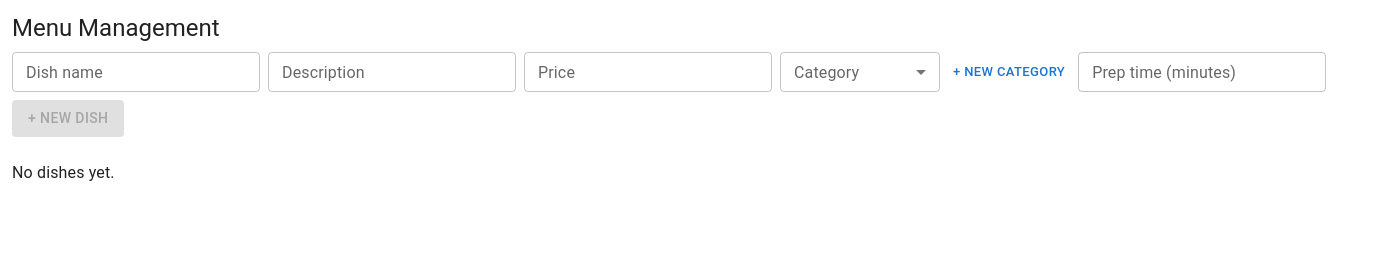
it: MenuManagementPage › surfaces a rejected dish submission inline with the backend's exact message
Check: the text "No dishes yet." is shown, box [12,163,115,182]
Step 1. Type "Orphan" into the field labelled "Dish name" → (136, 72), box [12,52,260,92]
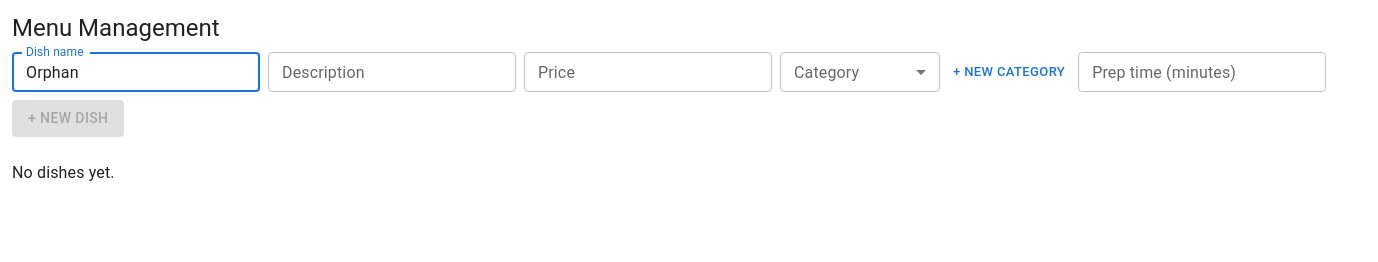
Step 2. Type "5.00" into the field labelled "Price" → (648, 72), box [524,52,772,92]
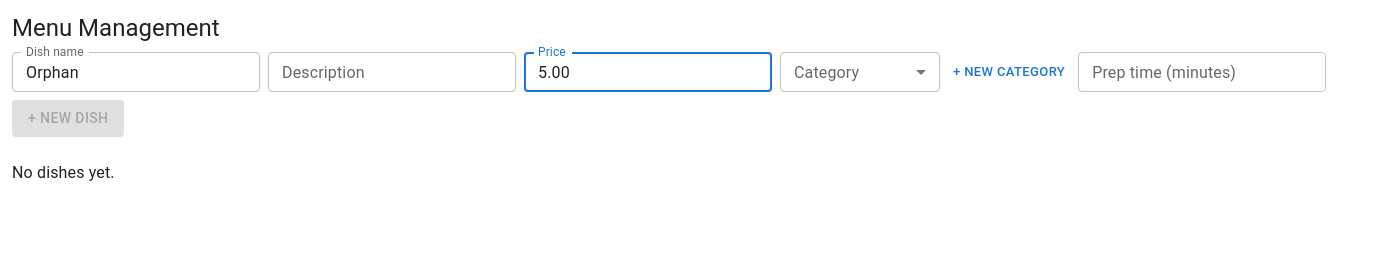
Step 3. Click the dropdown named "Category" → (860, 72), box [780,52,940,92]
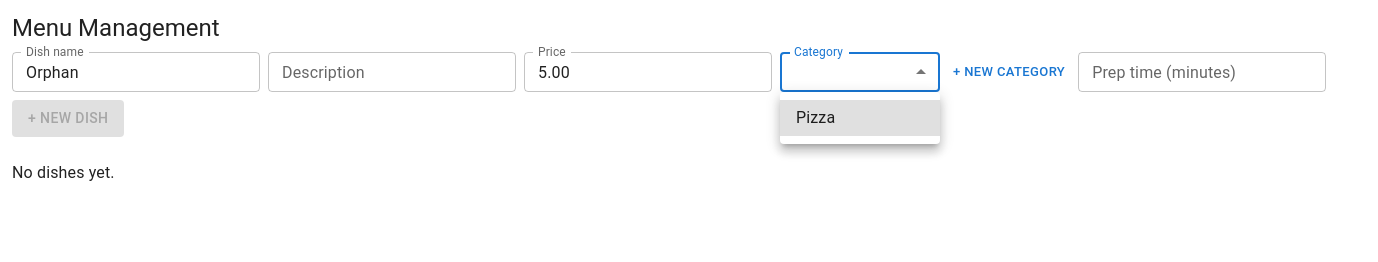
Step 4. Click the option "Pizza" → (860, 118), box [780,100,940,136]
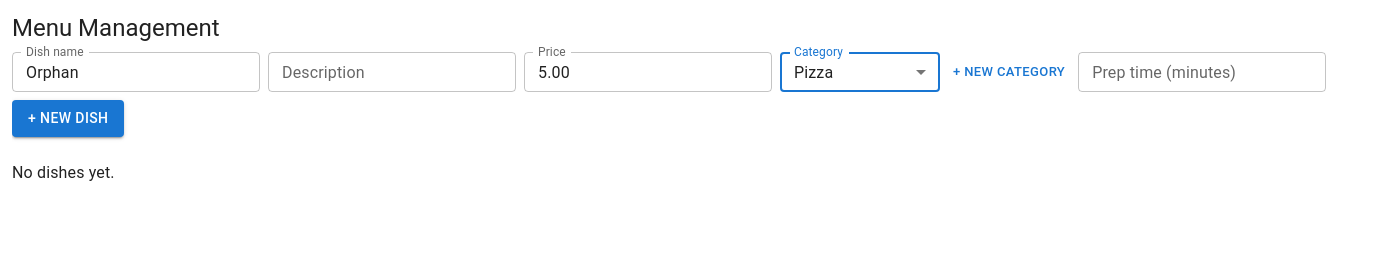
Step 5. Click the button "+ New dish" → (68, 119), box [12,100,124,137]
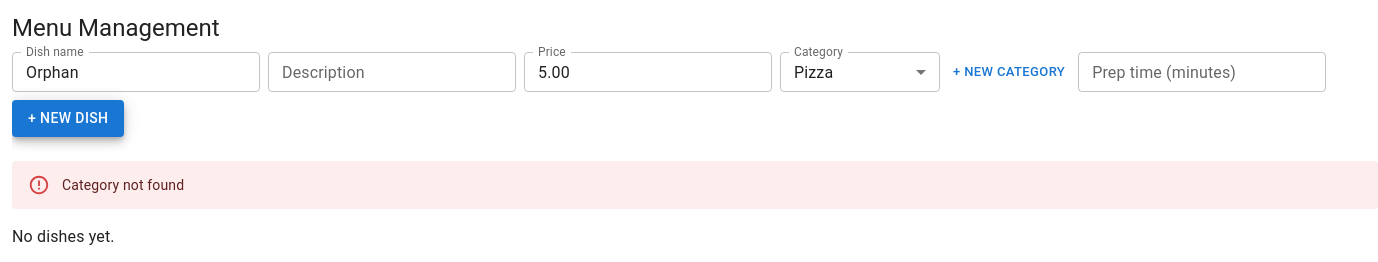
Check: the text "Category not found" is shown, box [62,177,184,193]
